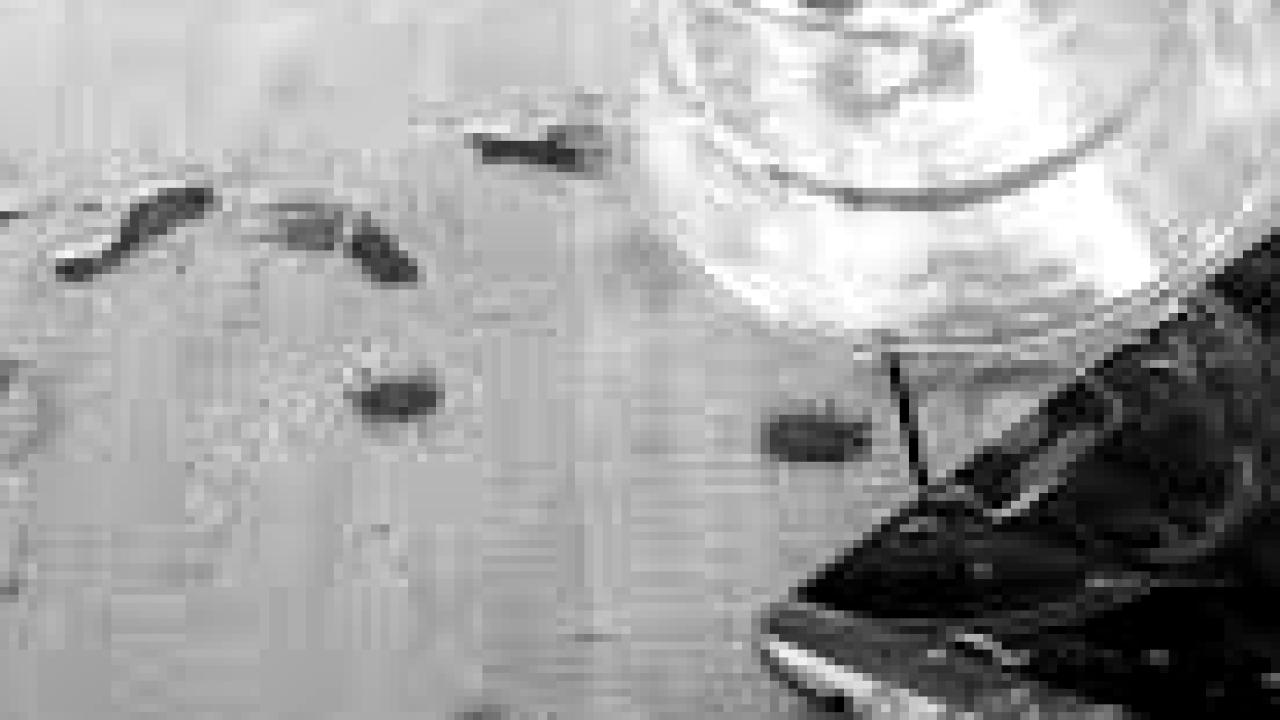Water Stains: (0, 78, 584, 532)
